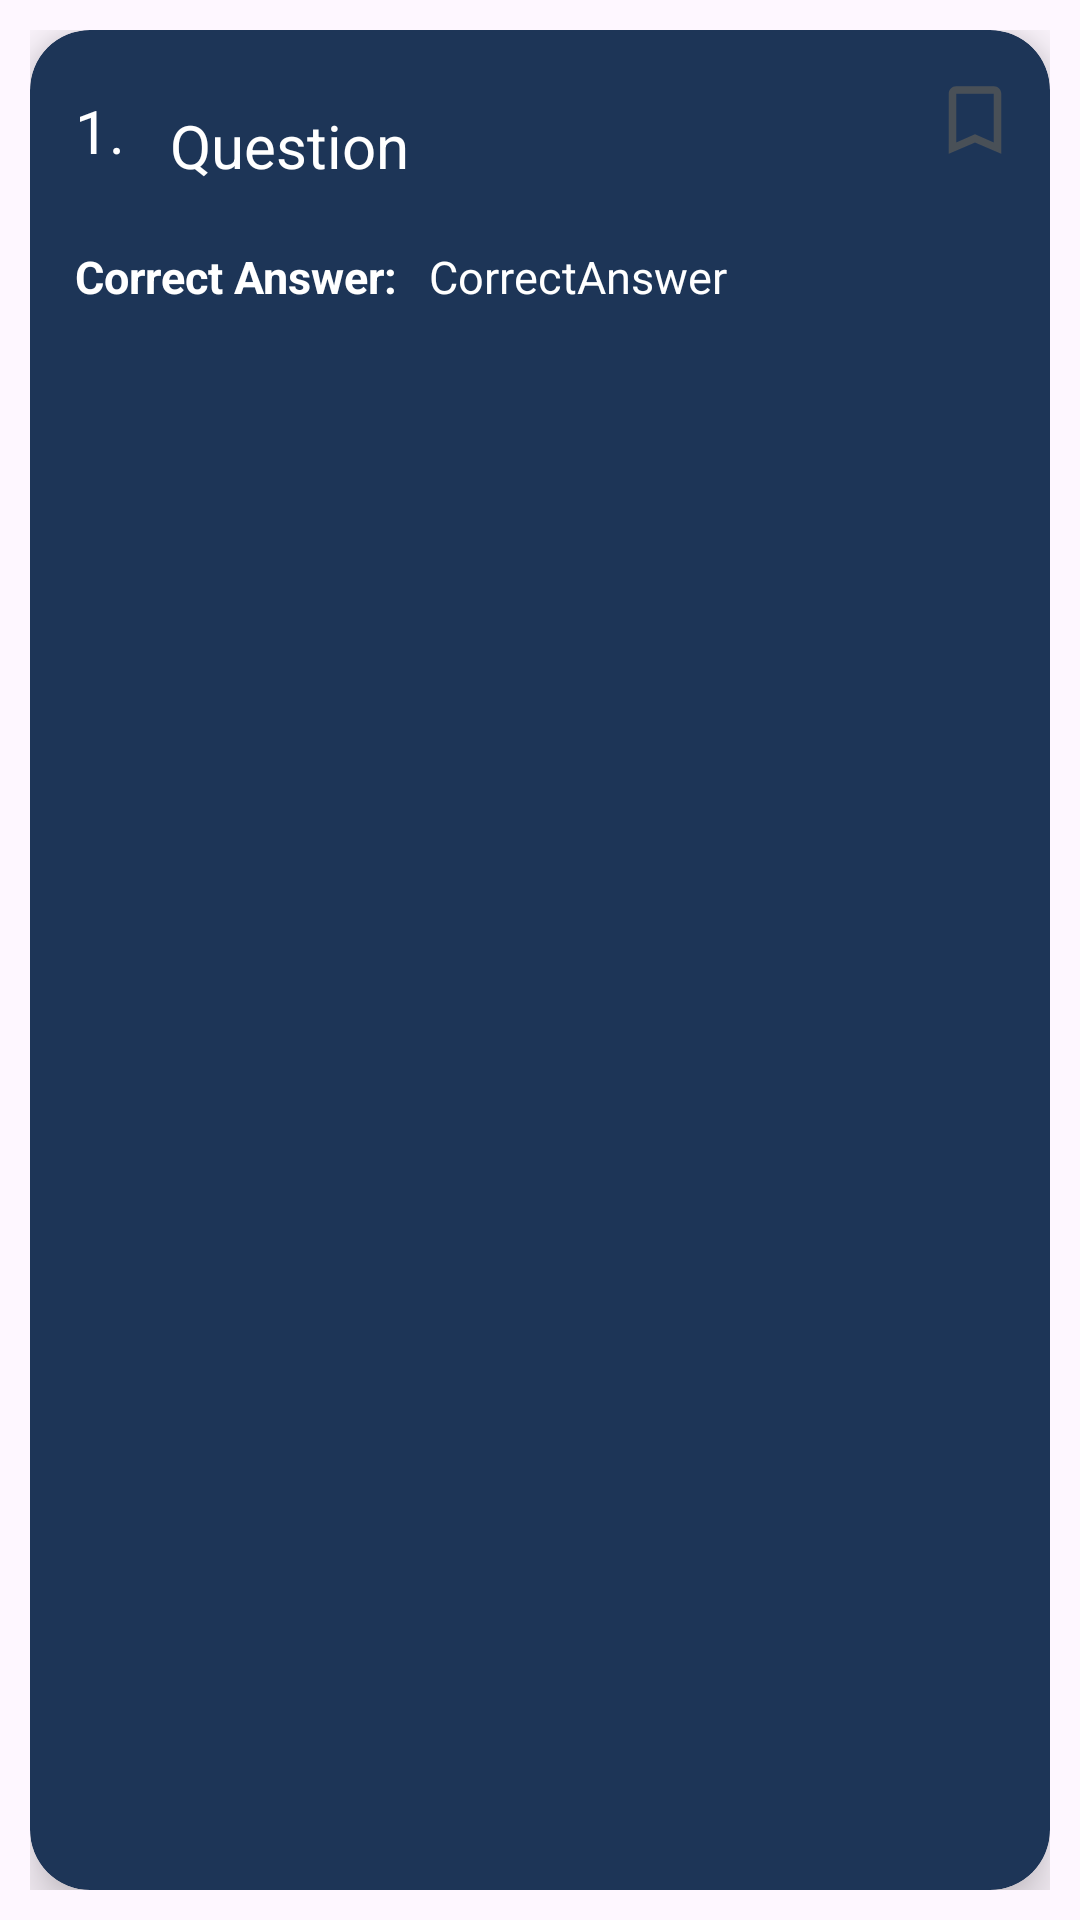

Icons on this 1080px x 1920px Android screen, each with the point to tap as point (x, y):
bookmark: point (975, 119)
